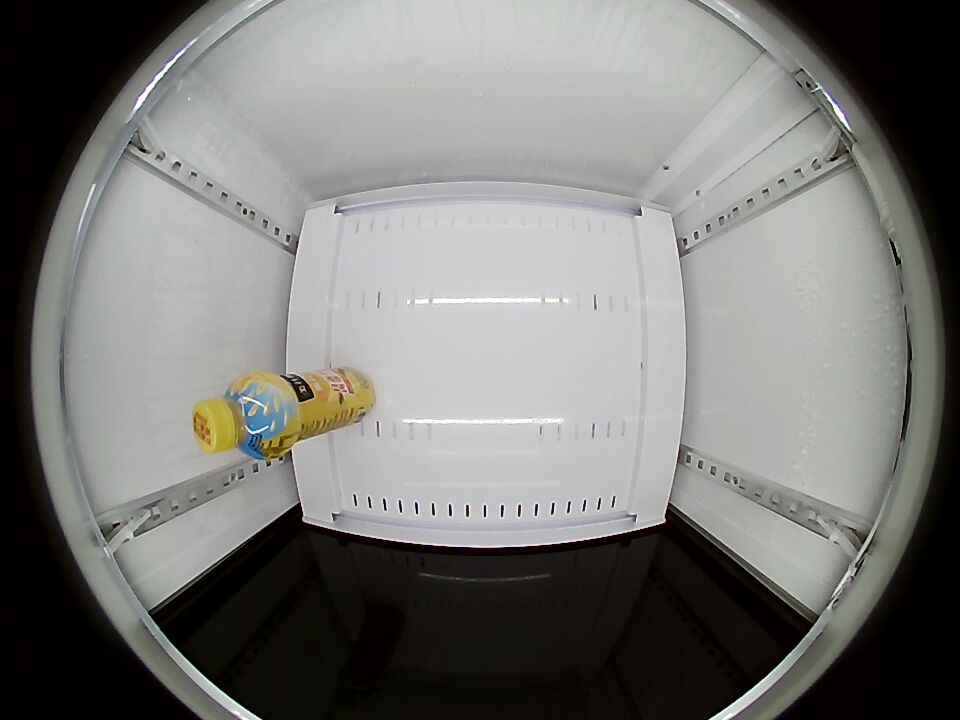guolicheng: (193, 372, 294, 458)
